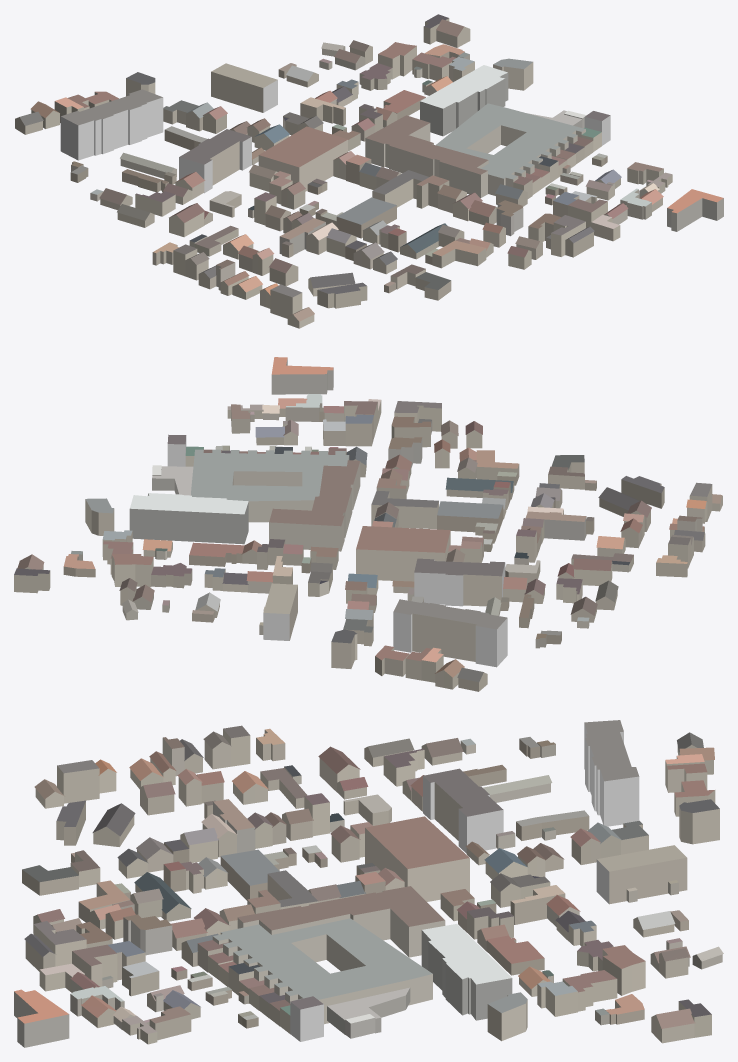
3 views of the same model, one above another, from view 1: azimuth 30°, elevation 25°; view 2: azimuth 150°, elevation 25°; view 3: azimuth 270°, elevation 25° (orthographic). The views are drawn at different scales.
Visible parts, largest first — view 1: tuile; view 2: tuile; view 3: tuile.
Part boxes in pixels (left/top/right/bottom): tuile: left=15, top=14, right=723, bottom=328; tuile: left=14, top=357, right=722, bottom=691; tuile: left=14, top=720, right=723, bottom=1047.
Bounding box in the file's own units: 267 × 28.2 × 264.
